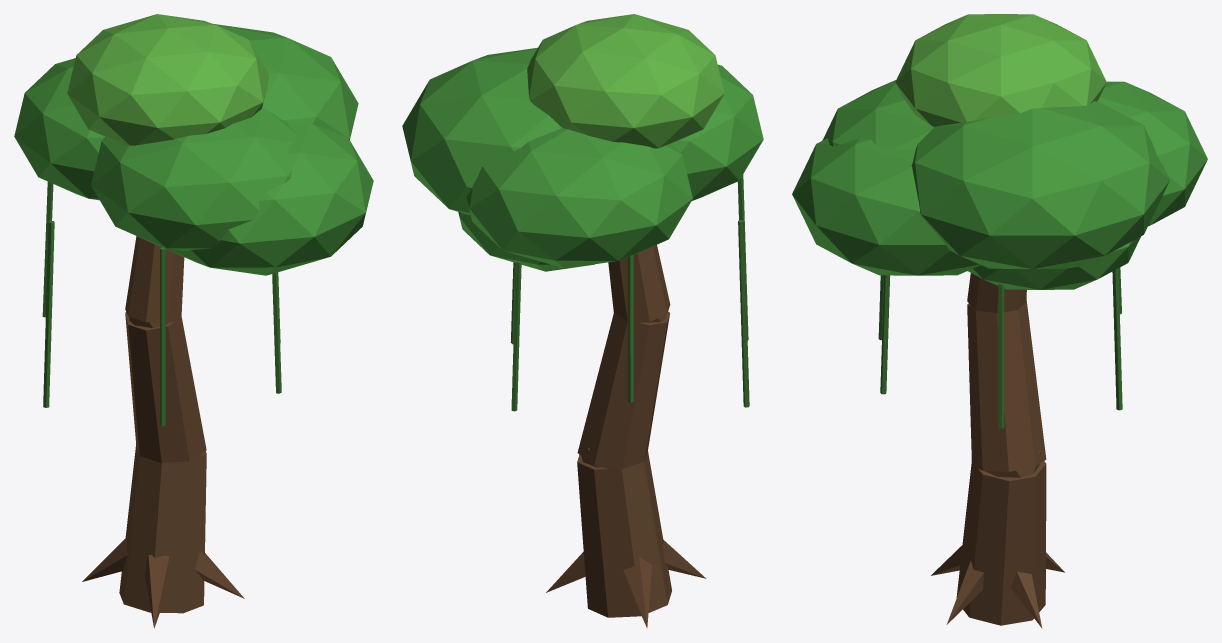
The model's file is JungleTree.fbx.
The picture shows the model from 3 angles, left to right: view 1: azimuth 30°, elevation 25°; view 2: azimuth 150°, elevation 25°; view 3: azimuth 270°, elevation 25°; orthographic projection. The views are drawn at different scales.
Visible parts, largest first — view 1: Leaves, Bark, LeavesTop, Vines; view 2: Leaves, Bark, LeavesTop, Vines; view 3: Leaves, Bark, LeavesTop, Vines.
Part boxes in pixels (left/top/right/bottom): Leaves: left=14, top=24, right=373, bottom=275; Bark: left=82, top=236, right=244, bottom=628; LeavesTop: left=67, top=14, right=268, bottom=145; Vines: left=42, top=181, right=281, bottom=426; Leaves: left=402, top=47, right=763, bottom=271; Bark: left=546, top=245, right=706, bottom=628; LeavesTop: left=527, top=14, right=724, bottom=148; Vines: left=511, top=174, right=749, bottom=411; Leaves: left=792, top=80, right=1207, bottom=289; Bark: left=931, top=273, right=1064, bottom=628; LeavesTop: left=895, top=14, right=1106, bottom=126; Vines: left=878, top=267, right=1122, bottom=428.
Size of the model in its own units: 8.98 by 15.88 by 10.22.
